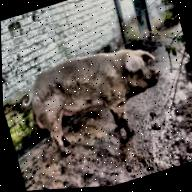boar: (14, 33, 175, 166)
